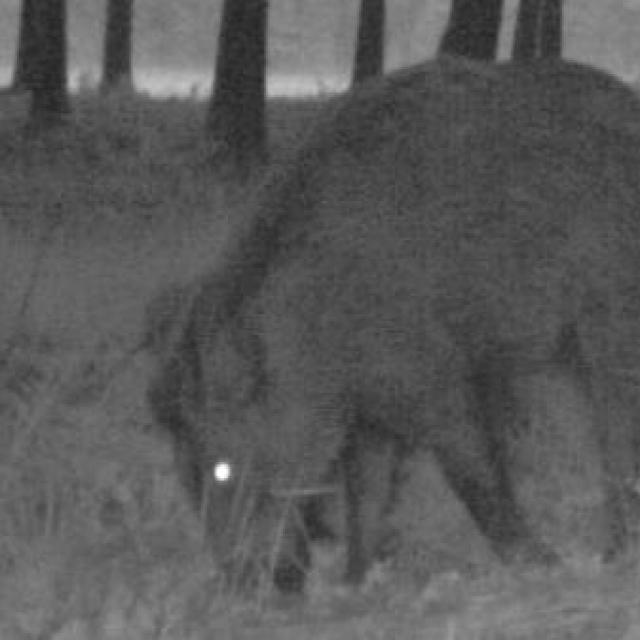pig: (142, 33, 640, 605)
